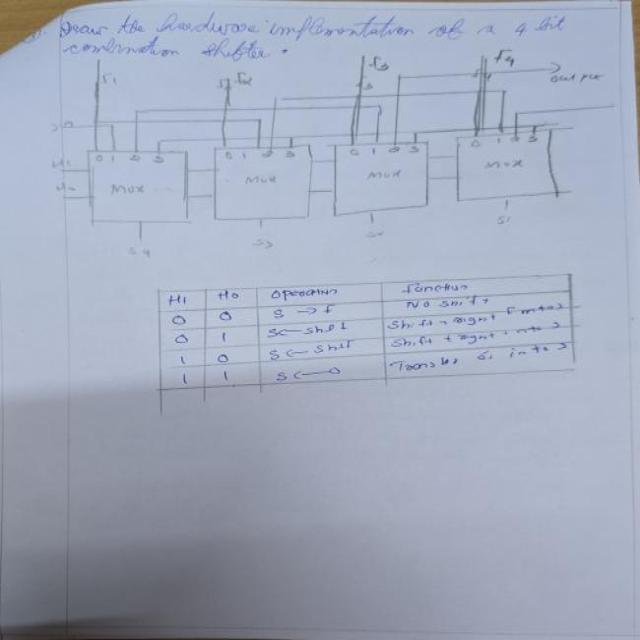Figure Detection - v3 Dataset Version2: (38, 44, 628, 264)
